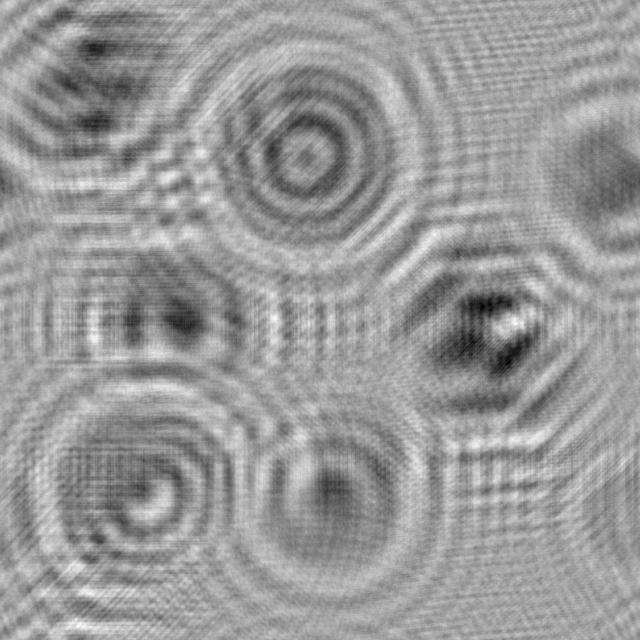C: (0, 357, 276, 640)
F: (20, 210, 296, 429)
J: (203, 347, 460, 640)
N: (0, 0, 215, 211)
Q: (144, 14, 457, 300)
W: (330, 188, 613, 476)
Z: (487, 35, 640, 309)
